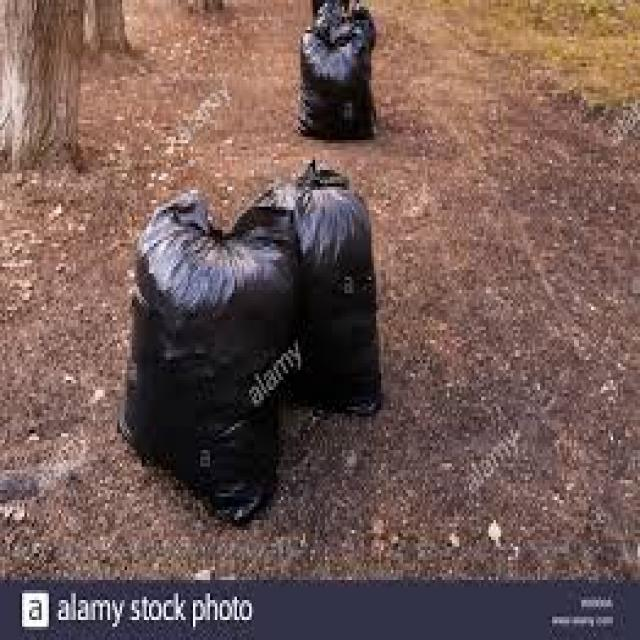plastic_bag: (121, 211, 299, 494), (277, 164, 377, 368), (297, 11, 385, 134)
